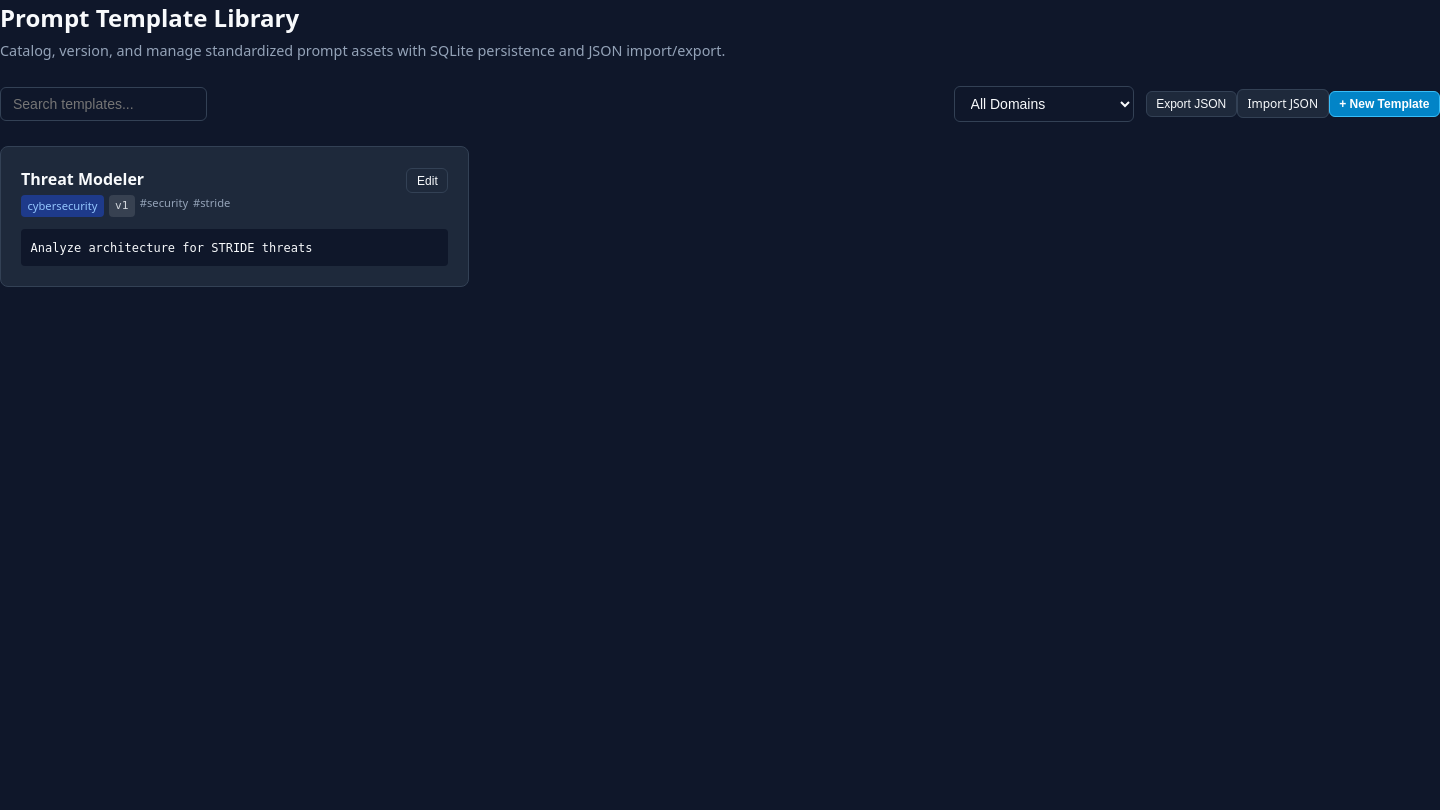
it: LibraryView Component › renders prompt library templates and opens creation modal
expect the heading "Threat Modeler" is shown: met, box [21,168,144,190]
expect the text "#security" is shown: met, box [140,195,188,217]
Click "+ New Template"
Step 1. Click the button "+ New Template" → point(1384, 104), box [1329,91,1439,117]
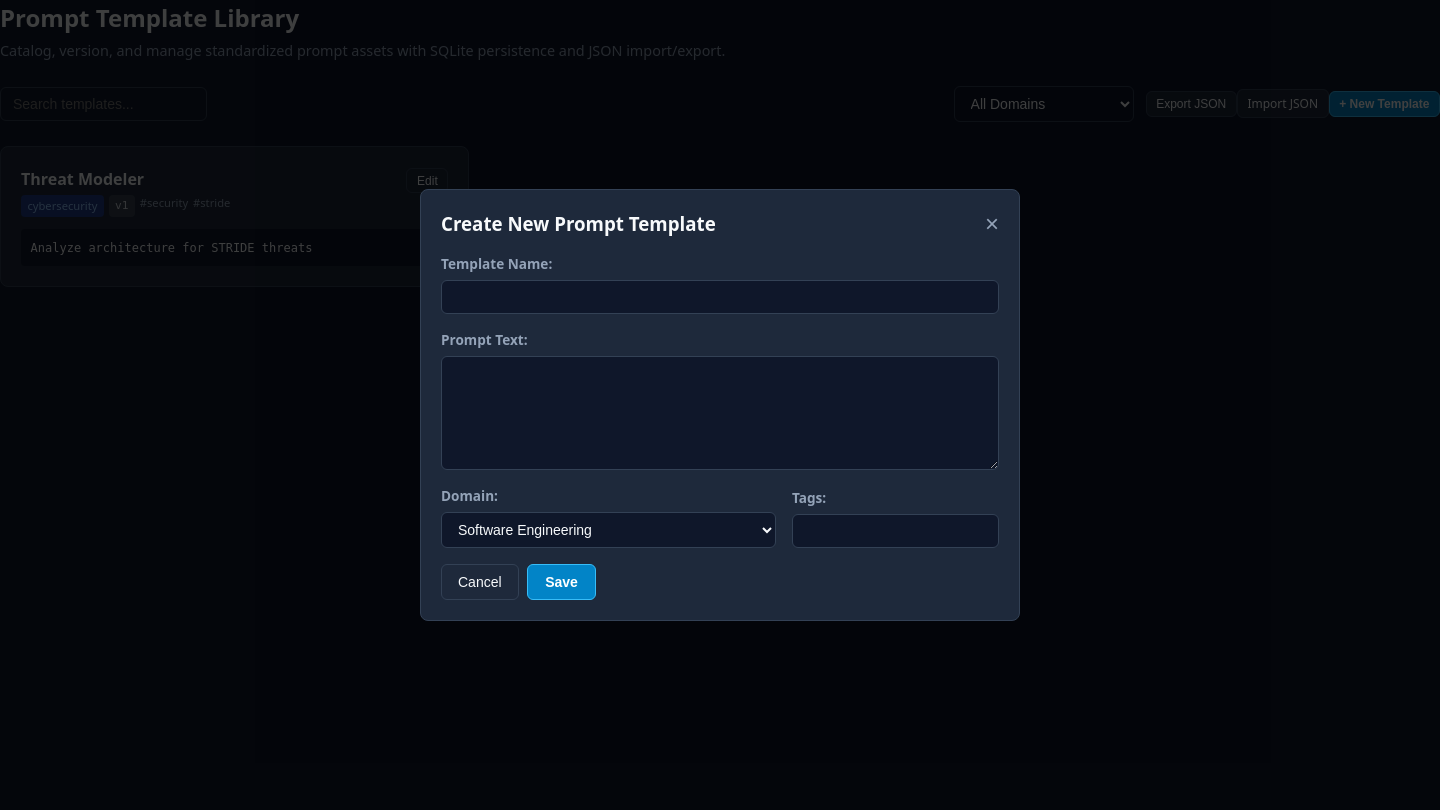
expect the heading "Create New Prompt Template" is shown: met, box [441,210,716,238]
expect the field labelled "Template Name:" is shown: met, box [441,280,999,314]
